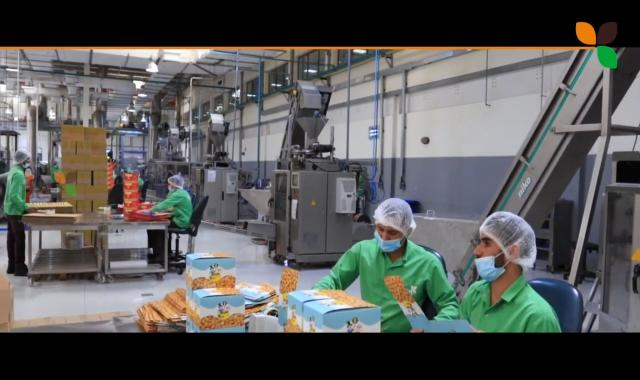hairnet: (473, 208, 535, 281), (371, 196, 416, 245), (15, 150, 32, 173), (167, 174, 184, 192)
